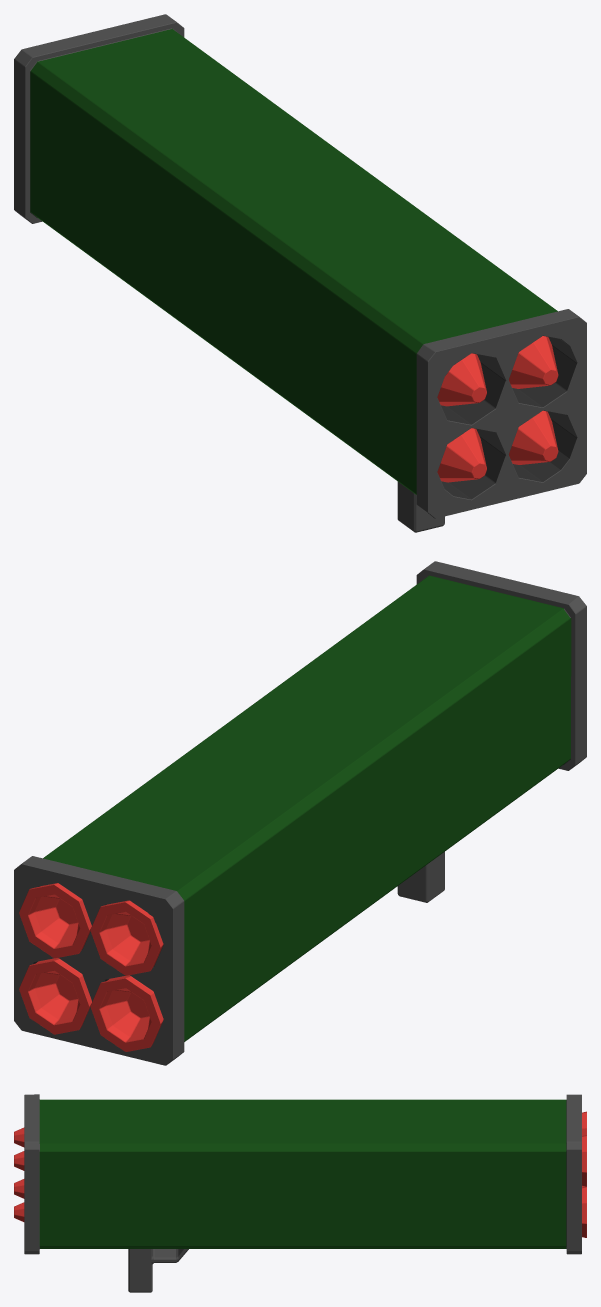
Rendered from arma_3_03.fbx.
3 renders of one model, top to bottom at view 1: azimuth 30°, elevation 25°; view 2: azimuth 150°, elevation 25°; view 3: azimuth 270°, elevation 25°, orthographic. The views are drawn at different scales.
Parts seen in each view (by area): view 1: 12; view 2: 12; view 3: 12.
Boxes of the visible parts, x1,y1,x2,y2 form: 12: (14,14,586,532); 12: (14,561,586,1065); 12: (14,1094,586,1292).
Bounding box in the file's own units: 32.83 × 49.66 × 152.
